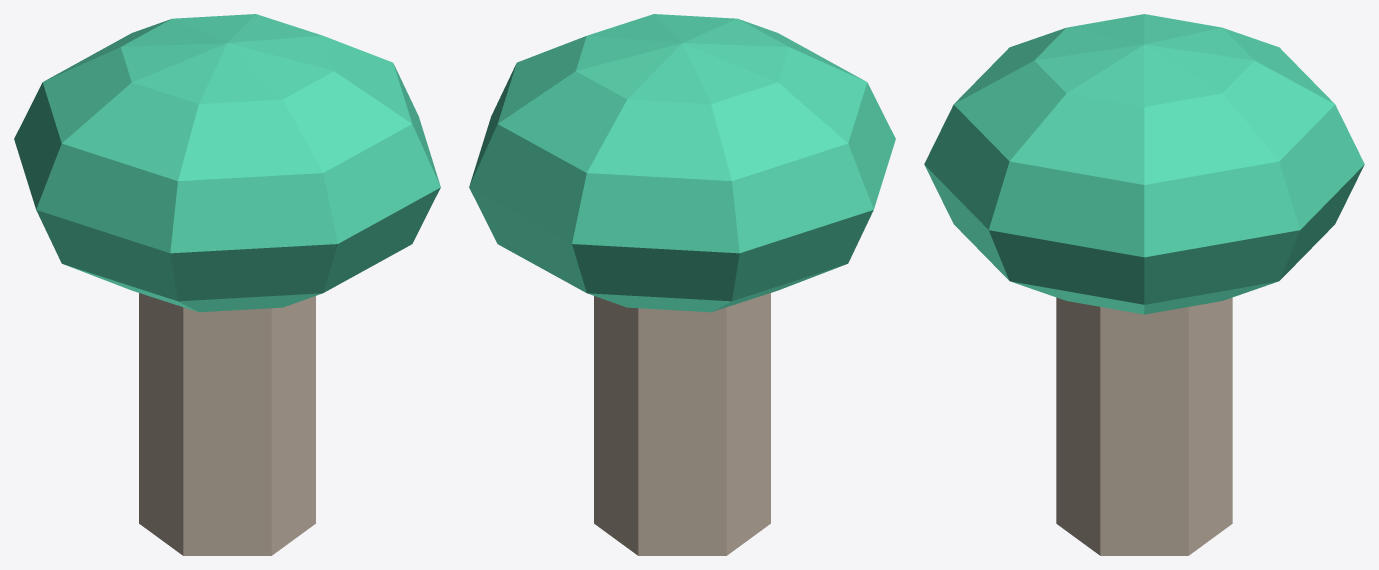
File: jungle_mushroom.dae
3 renders of one model, left to right at view 1: azimuth 30°, elevation 25°; view 2: azimuth 150°, elevation 25°; view 3: azimuth 270°, elevation 25°, orthographic.
Parts seen in each view (by area): view 1: Sphere, Cylinder; view 2: Sphere, Cylinder; view 3: Sphere, Cylinder.
Boxes of the visible parts, x1,y1,x2,y2 form: Sphere: [14, 14, 440, 312]; Cylinder: [139, 293, 315, 555]; Sphere: [469, 14, 895, 312]; Cylinder: [594, 293, 770, 555]; Sphere: [924, 14, 1364, 314]; Cylinder: [1056, 297, 1232, 555].
Size of the model in its own units: 20 by 20 by 24.
